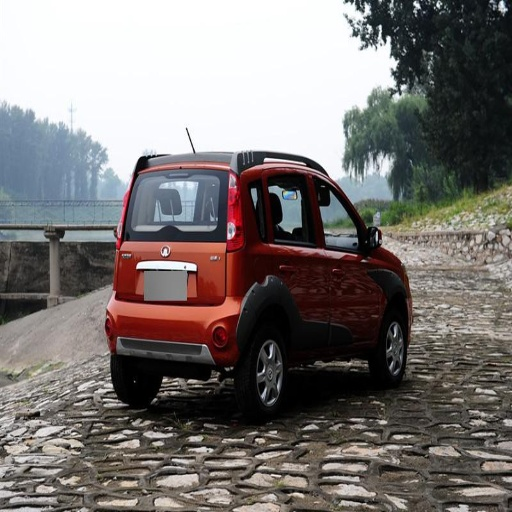back_bumper: (108, 299, 217, 360)
back_right_door: (270, 167, 331, 352)
trunk: (116, 225, 252, 351)
